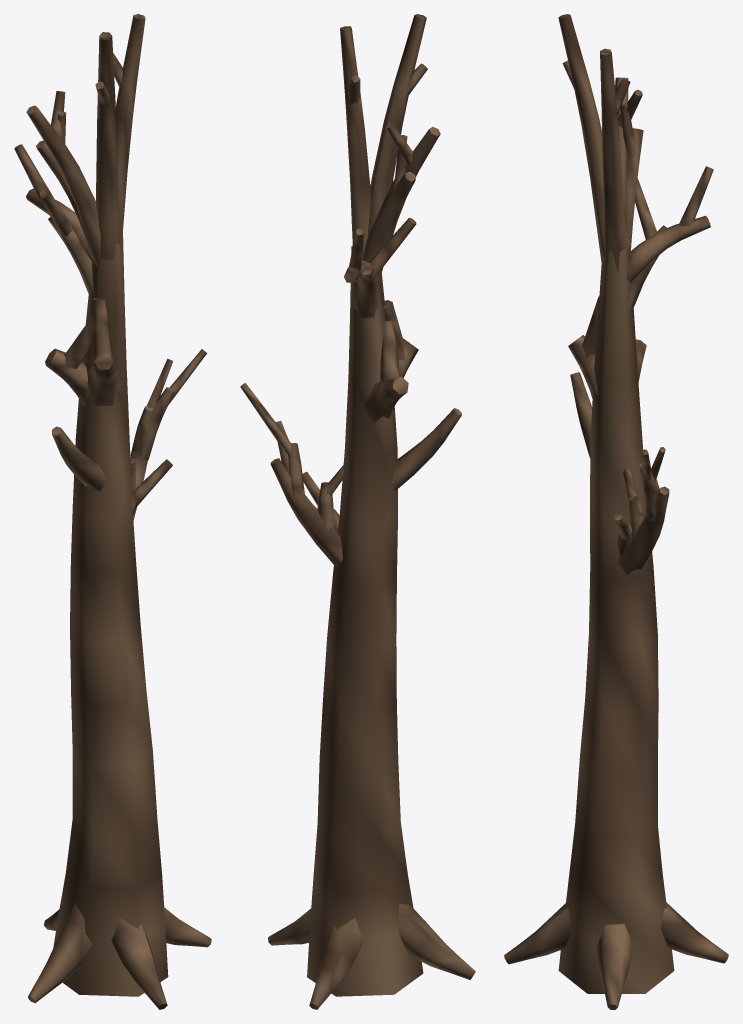
File: SM_StylizedBareTree1.fbx
The picture shows the model from 3 angles, left to right: view 1: azimuth 30°, elevation 25°; view 2: azimuth 150°, elevation 25°; view 3: azimuth 270°, elevation 25°; orthographic projection. The views are drawn at different scales.
Visible parts, largest first — view 1: SM_StylizedBareTree1; view 2: SM_StylizedBareTree1; view 3: SM_StylizedBareTree1.
Part boxes in pixels (bbox=[...]): SM_StylizedBareTree1: bbox=[14, 14, 211, 1009]; SM_StylizedBareTree1: bbox=[240, 14, 475, 1009]; SM_StylizedBareTree1: bbox=[504, 14, 728, 1009].
Size of what is drawn, in the model's own units: 1.7 by 7.56 by 1.63.
